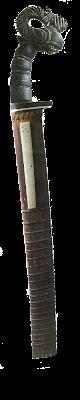facao: (0, 0, 80, 369)
